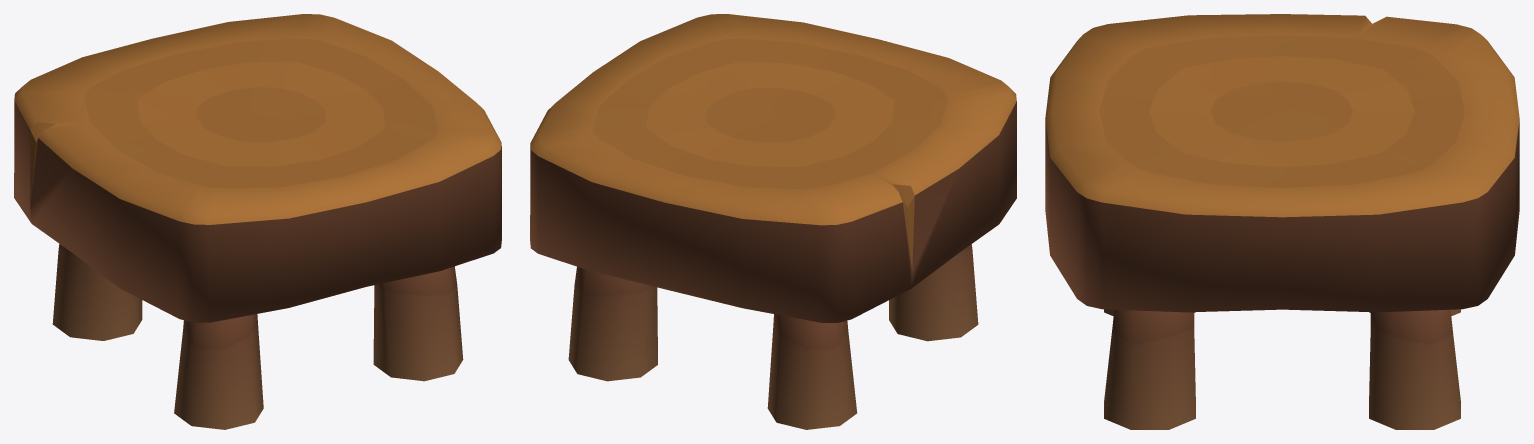
Rendered from obj_Bench.fbx.
3 views of the same model, side by side, from view 1: azimuth 30°, elevation 25°; view 2: azimuth 150°, elevation 25°; view 3: azimuth 270°, elevation 25° (orthographic). The views are drawn at different scales.
Parts seen in each view (by area): view 1: obj_RoundTable; view 2: obj_RoundTable; view 3: obj_RoundTable.
Boxes of the visible parts, x1,y1,x2,y2 form: obj_RoundTable: (14, 14, 501, 429); obj_RoundTable: (530, 14, 1016, 429); obj_RoundTable: (1045, 14, 1519, 429).
Bounding box in the file's own units: 33.39 × 33.74 × 19.65.
